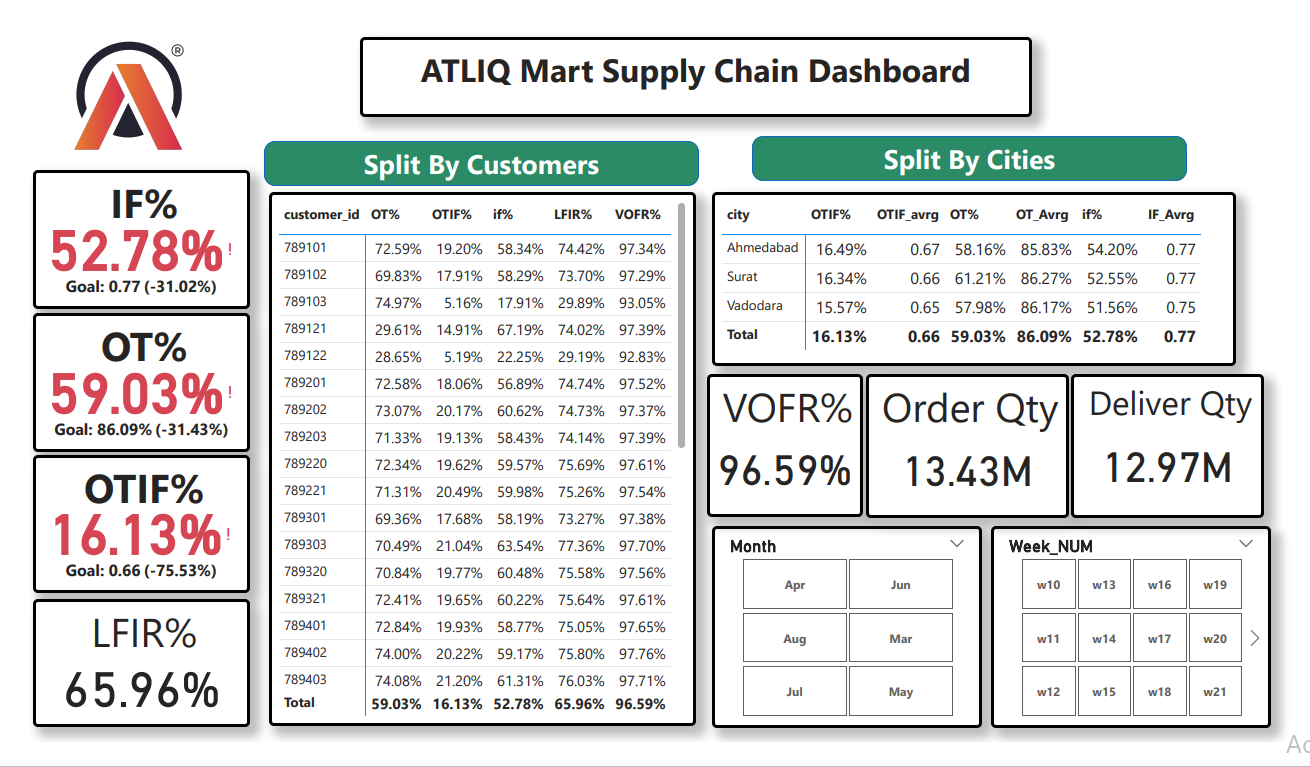

The page's visual inventory and layout, read from the dashboard file:
{"tool":"powerbi","page":{"name":"Dashboard - 1","canvas":[1280,720],"ordinal":0},"visuals":[{"type":"kpi","title":"IF%","fields":{"Indicator":["fact_orders_aggregate.if%"],"TrendLine":["fact_order_lines.Year"],"Goal":["dim_targets_orders.IF_Avrg"]},"box":[16.5,148.2,216.8,138.6],"z":0},{"type":"textbox","box":[343.1,15.1,672,80],"z":1000},{"type":"kpi","title":"OT%","fields":{"TrendLine":["fact_order_lines.Year"],"Indicator":["fact_orders_aggregate.OT%"],"Goal":["dim_targets_orders.OT_Avrg"]},"box":[16.5,290.9,216.8,138.6],"z":2000},{"type":"kpi","title":"OTIF%","fields":{"TrendLine":["fact_order_lines.Year"],"Indicator":["fact_orders_aggregate.OTIF%"],"Goal":["dim_targets_orders.OTIF_avrg"]},"box":[16.4,432.9,216.4,138.4],"z":3000},{"type":"pivotTable","fields":{"Rows":["dim_targets_orders.customer_id"],"Values":["fact_orders_aggregate.OT%","fact_orders_aggregate.OTIF%","fact_orders_aggregate.if%","fact_order_lines.LFIR%","fact_order_lines.VOFR%"]},"box":[252.1,169.6,427.4,534.2],"z":4000},{"type":"pivotTable","fields":{"Rows":["dim_customers.city"],"Values":["fact_orders_aggregate.OTIF%","dim_targets_orders.OTIF_avrg","fact_orders_aggregate.OT%","dim_targets_orders.OT_Avrg","fact_orders_aggregate.if%","dim_targets_orders.IF_Avrg"]},"box":[695.3,169.6,523.3,174],"z":5000},{"type":"shape","title":"Split By Customers","box":[247,119.1,435,45.3],"z":6000},{"type":"shape","title":"Split By Customers","box":[735,113.6,435,45.3],"z":7000},{"type":"slicer","fields":{"Values":["fact_order_lines.Month"]},"box":[695.2,504.5,270.3,201.7],"z":8000},{"type":"image","box":[35.7,12.3,153.7,122.1],"z":9000},{"type":"card","title":"LFIR%","fields":{"Values":["fact_order_lines.LFIR%"]},"box":[16.4,576.7,216.4,128.8],"z":10000},{"type":"card","title":"VOFR%","fields":{"Values":["fact_order_lines.VOFR%"]},"box":[689.9,352.3,156.2,142.5],"z":11000},{"type":"slicer","fields":{"Values":["fact_order_lines.Week_NUM"]},"box":[973.7,504,279.9,201.7],"z":12000},{"type":"card","title":"Order Qty","fields":{"Values":["Sum(fact_order_lines.order_qty)"]},"box":[848.8,352.3,202.7,143.8],"z":13000},{"type":"card","title":"Deliver Qty","fields":{"Values":["Sum(fact_order_lines.delivery_qty)"]},"box":[1054.2,352.3,193.2,143.8],"z":14000}]}

Visuals, with their boxes in screenshot pixels (x1, y1, x2, y2):
"IF%" kpi: rect(27, 167, 246, 307)
textbox: rect(357, 32, 1035, 113)
"OT%" kpi: rect(27, 311, 246, 451)
"OTIF%" kpi: rect(27, 454, 245, 594)
pivotTable - dim_targets_orders.customer_id x fact_orders_aggregate.OT%: rect(265, 188, 696, 727)
pivotTable - dim_customers.city x fact_orders_aggregate.OTIF%: rect(712, 188, 1240, 364)
"Split By Customers" shape: rect(260, 137, 699, 183)
"Split By Customers" shape: rect(752, 132, 1191, 177)
slicer - fact_order_lines.Month: rect(712, 526, 985, 730)
image: rect(46, 29, 201, 153)
"LFIR%" card: rect(27, 599, 245, 729)
"VOFR%" card: rect(707, 373, 864, 516)
slicer - fact_order_lines.Week_NUM: rect(993, 526, 1275, 729)
"Order Qty" card: rect(867, 373, 1071, 518)
"Deliver Qty" card: rect(1074, 373, 1269, 518)
